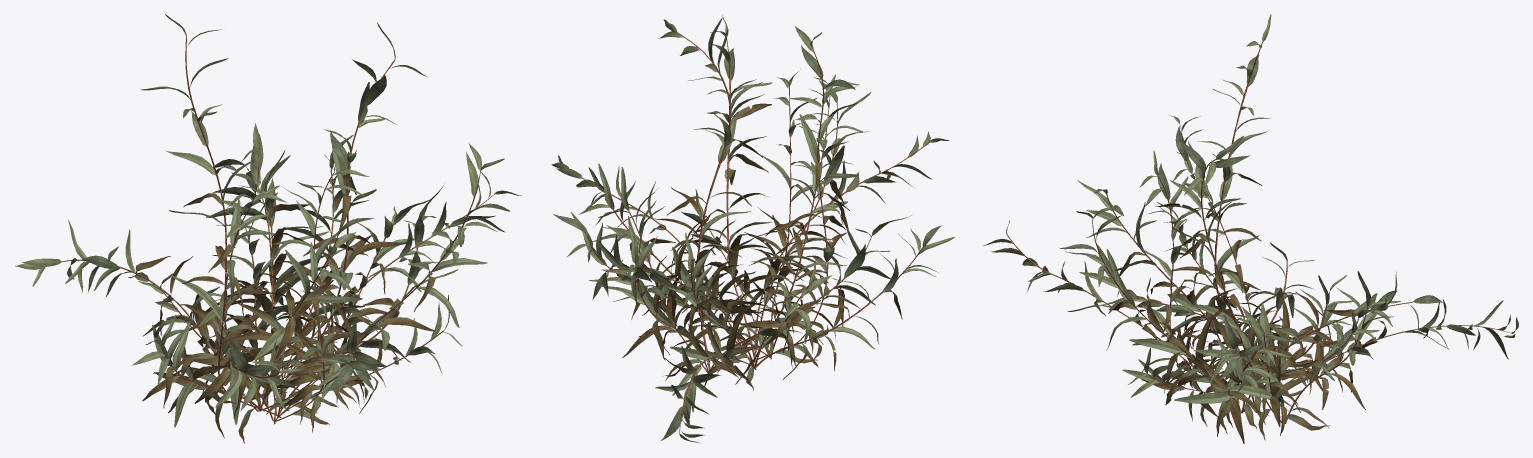
The model's file is shrub_02.glb.
The picture shows the model from 3 angles, left to right: view 1: azimuth 30°, elevation 25°; view 2: azimuth 150°, elevation 25°; view 3: azimuth 270°, elevation 25°; orthographic projection. The views are drawn at different scales.
Parts seen in each view (by area): view 1: shrub_02_a, shrub_02_c, shrub_02_b, shrub_02_d; view 2: shrub_02_c, shrub_02_a, shrub_02_b, shrub_02_d; view 3: shrub_02_a, shrub_02_b, shrub_02_c, shrub_02_d.
Part boxes in pixels (x1,y1,x2,y2): shrub_02_a: (140, 14, 510, 443); shrub_02_c: (15, 123, 521, 437); shrub_02_b: (172, 22, 433, 424); shrub_02_d: (138, 134, 462, 432); shrub_02_c: (551, 77, 954, 443); shrub_02_a: (578, 15, 871, 364); shrub_02_b: (598, 17, 911, 384); shrub_02_d: (553, 71, 831, 367); shrub_02_a: (1059, 14, 1442, 443); shrub_02_b: (1101, 136, 1400, 440); shrub_02_c: (983, 114, 1518, 427); shrub_02_d: (1122, 150, 1379, 426).
Size of the model in its own units: 1.77 by 1.69 by 2.29.
Materials: 1 (1 with a texture image).
